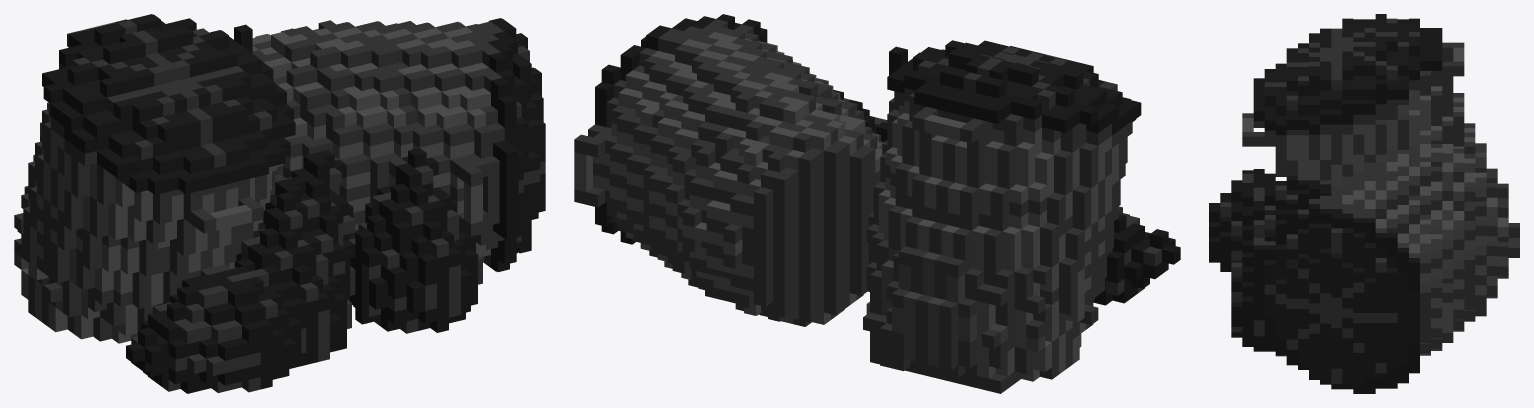
Rendered from tresh_2.obj.
The picture shows the model from 3 angles, left to right: view 1: azimuth 30°, elevation 25°; view 2: azimuth 150°, elevation 25°; view 3: azimuth 270°, elevation 25°; orthographic projection. The views are drawn at different scales.
Size of the model in its own units: 4 by 2.2 by 2.8.
Materials: 1 (1 with a texture image).
